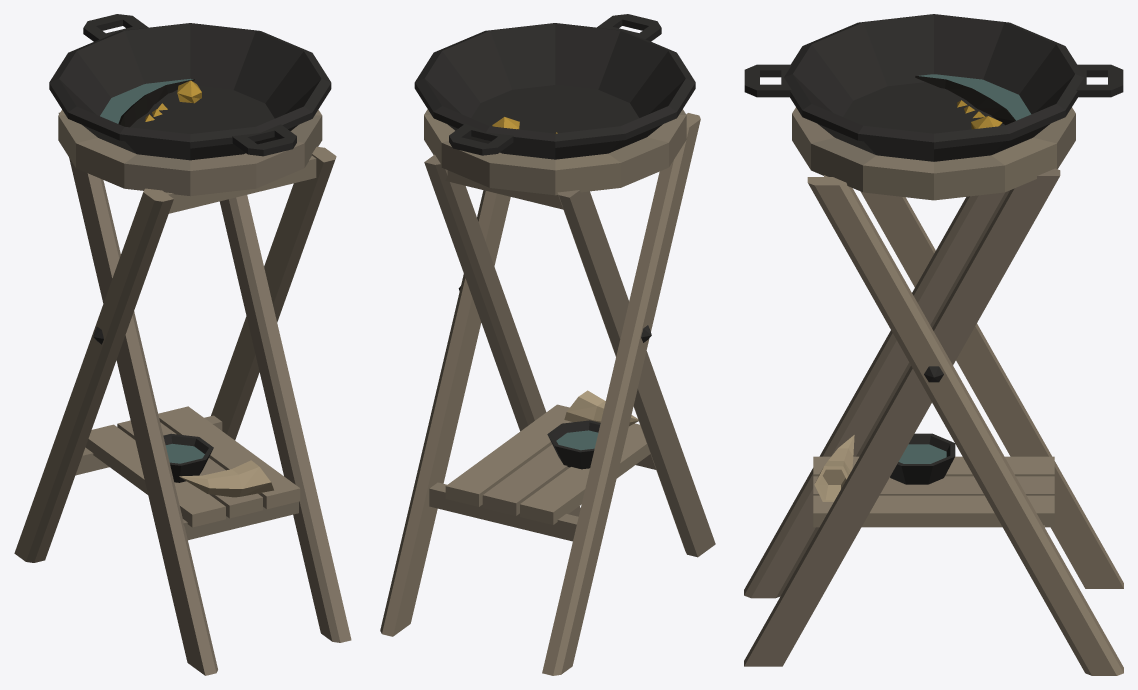
File: gold-pan-on-a-2e9b0a.glb
The picture shows the model from 3 angles, left to right: view 1: azimuth 30°, elevation 25°; view 2: azimuth 150°, elevation 25°; view 3: azimuth 270°, elevation 25°; orthographic projection. The views are drawn at different scales.
Visible parts, largest first — view 1: stand, pan-body, gold-mesh; view 2: stand, pan-body; view 3: stand, pan-body.
Part boxes in pixels (left/top/right/bottom): stand: left=14, top=110, right=351, bottom=675; pan-body: left=49, top=14, right=331, bottom=160; gold-mesh: left=145, top=80, right=201, bottom=121; stand: left=380, top=109, right=715, bottom=675; pan-body: left=414, top=14, right=695, bottom=159; stand: left=744, top=107, right=1123, bottom=675; pan-body: left=744, top=14, right=1123, bottom=161.
Bounding box in the file's own units: 0.398 × 0.801 × 0.4976.
